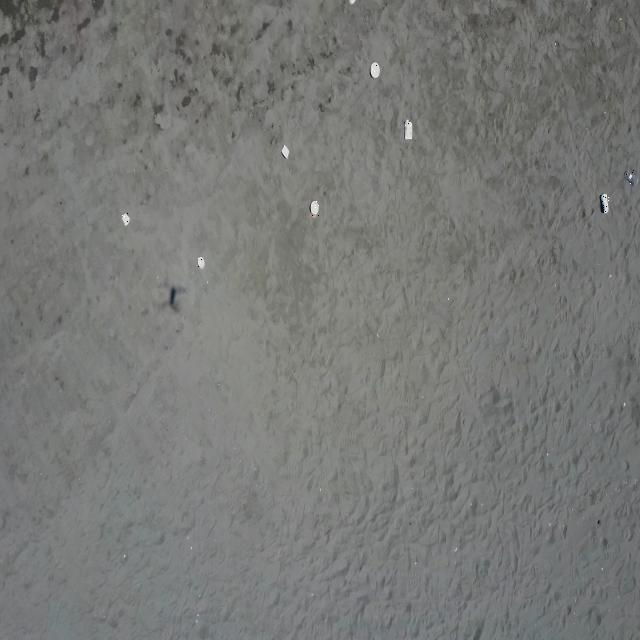take-away-containers: (404, 120, 413, 142), (370, 61, 380, 79), (310, 201, 319, 217), (281, 144, 290, 160), (122, 213, 130, 226), (198, 256, 205, 268)
takeaway-cup: (625, 169, 639, 186), (600, 192, 610, 214)
